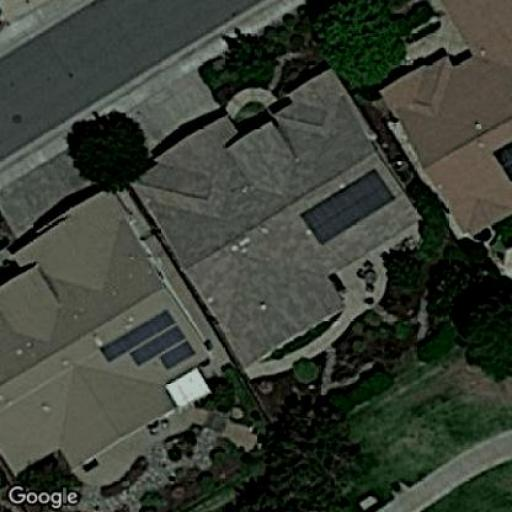solar-panel: (299, 166, 398, 248), (96, 308, 198, 372), (488, 129, 510, 193)
